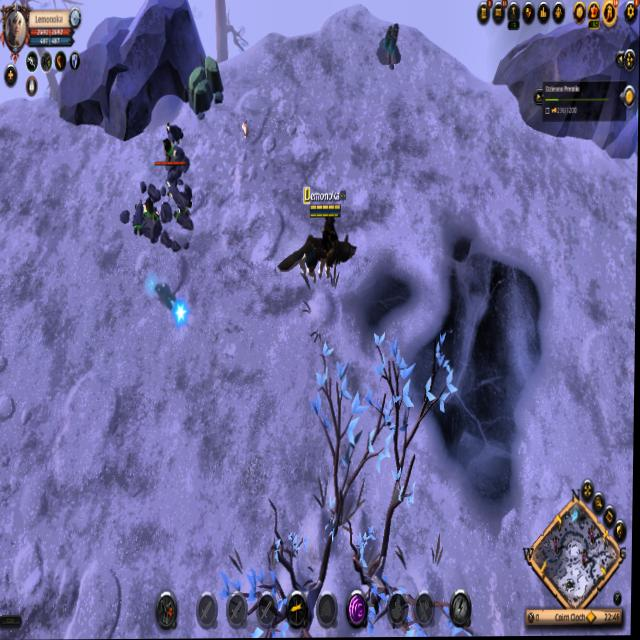ore tier 4: (378, 22, 404, 74)
rock tier 3: (183, 51, 226, 120)
